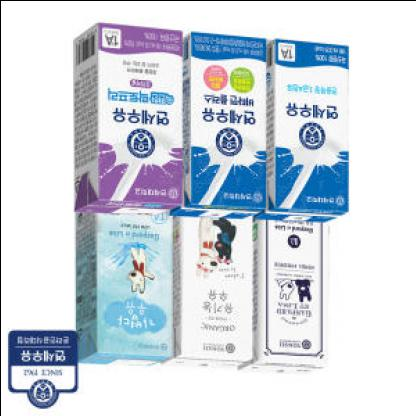tetra: (56, 5, 182, 238), (246, 33, 362, 228), (166, 31, 269, 234), (148, 216, 258, 387), (232, 219, 336, 390), (76, 216, 184, 378)
